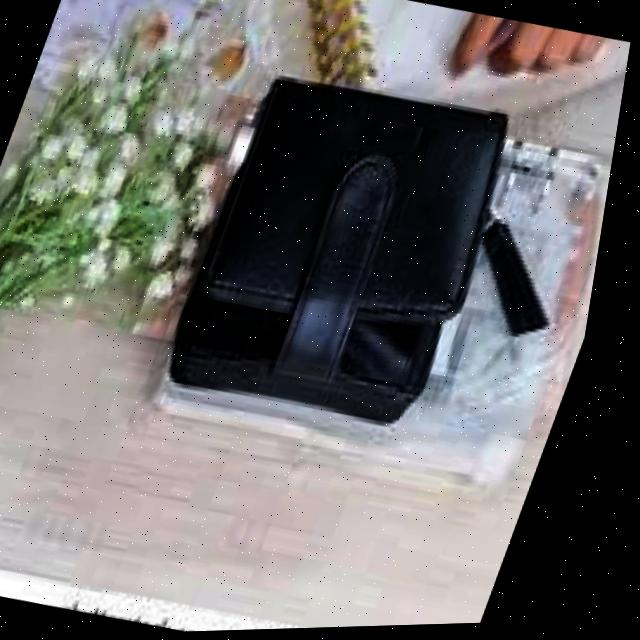cuzdan: (158, 50, 550, 454)
